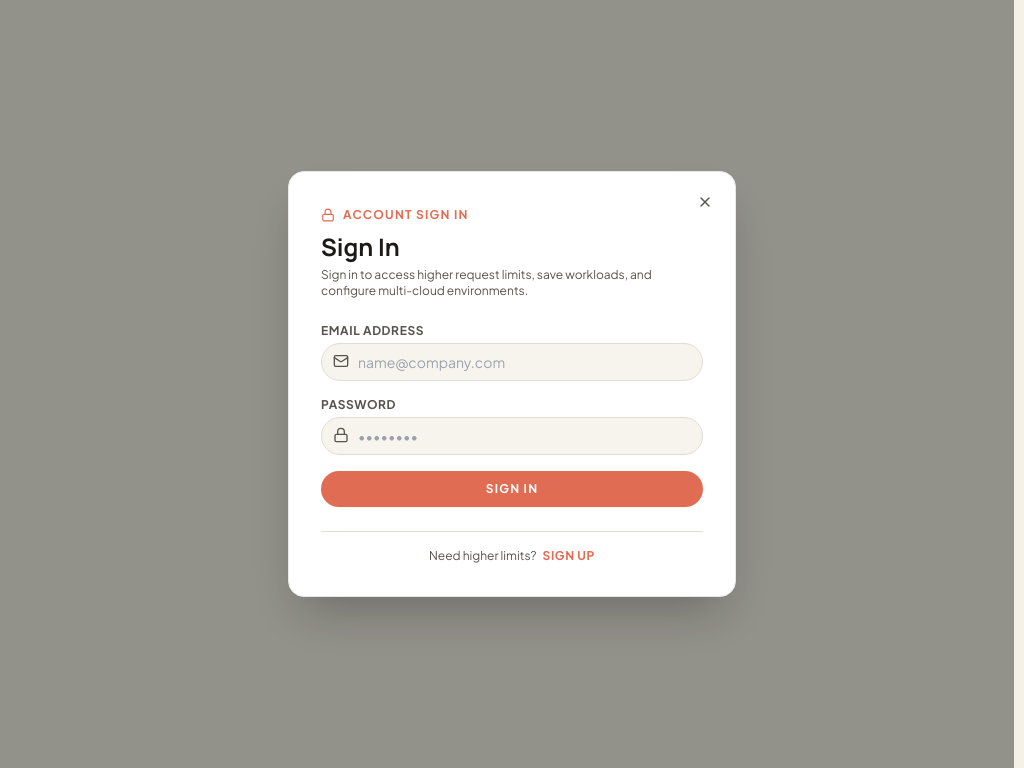
AuthModal Component › switches between Login and Signup modes
Expected: the heading reads "Sign In", x1=321 y1=230 x2=400 y2=263
Click the button "Sign Up" at (569, 556), box x1=542 y1=548 x2=595 y2=564
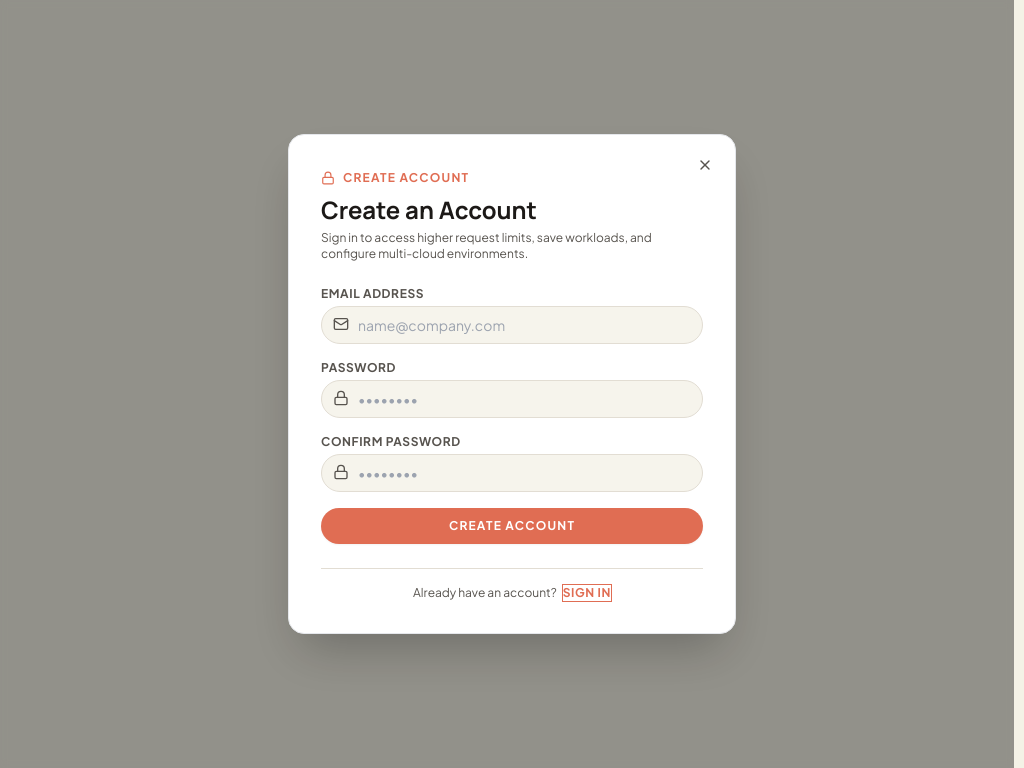
Expected: the heading reads "Create an Account", x1=321 y1=193 x2=537 y2=226
Expected: the text "Confirm Password" is shown, x1=321 y1=434 x2=461 y2=449
Click the button "Sign In" at (587, 593), box x1=563 y1=585 x2=611 y2=601
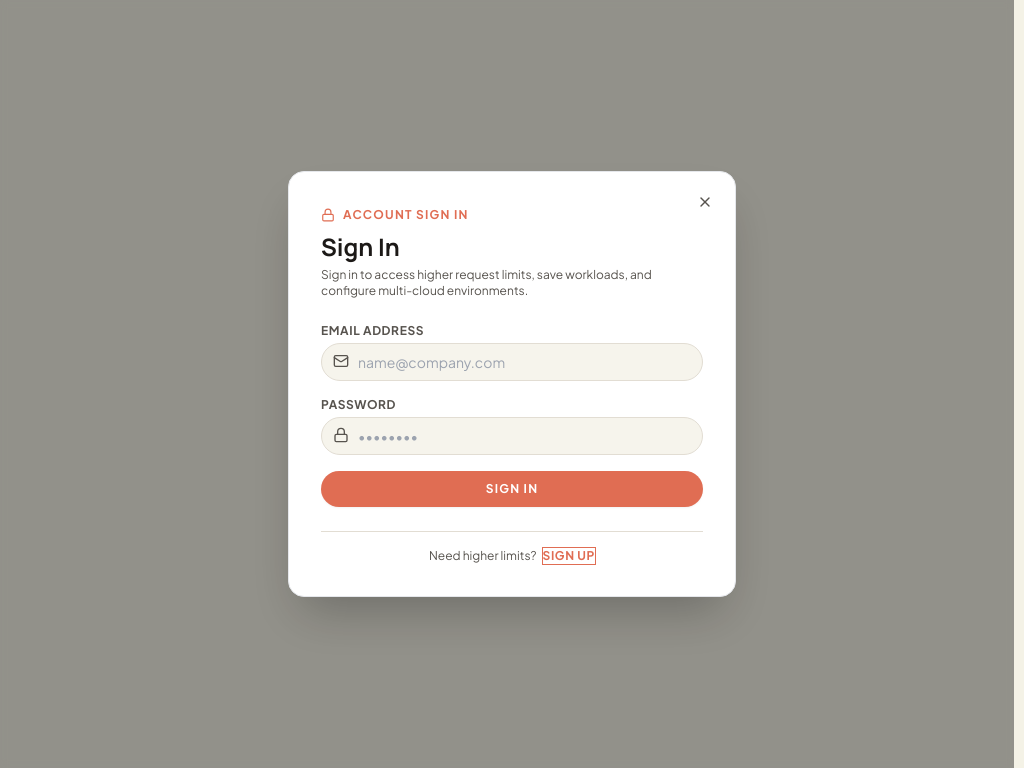
Expected: the heading reads "Sign In", x1=321 y1=230 x2=400 y2=263
